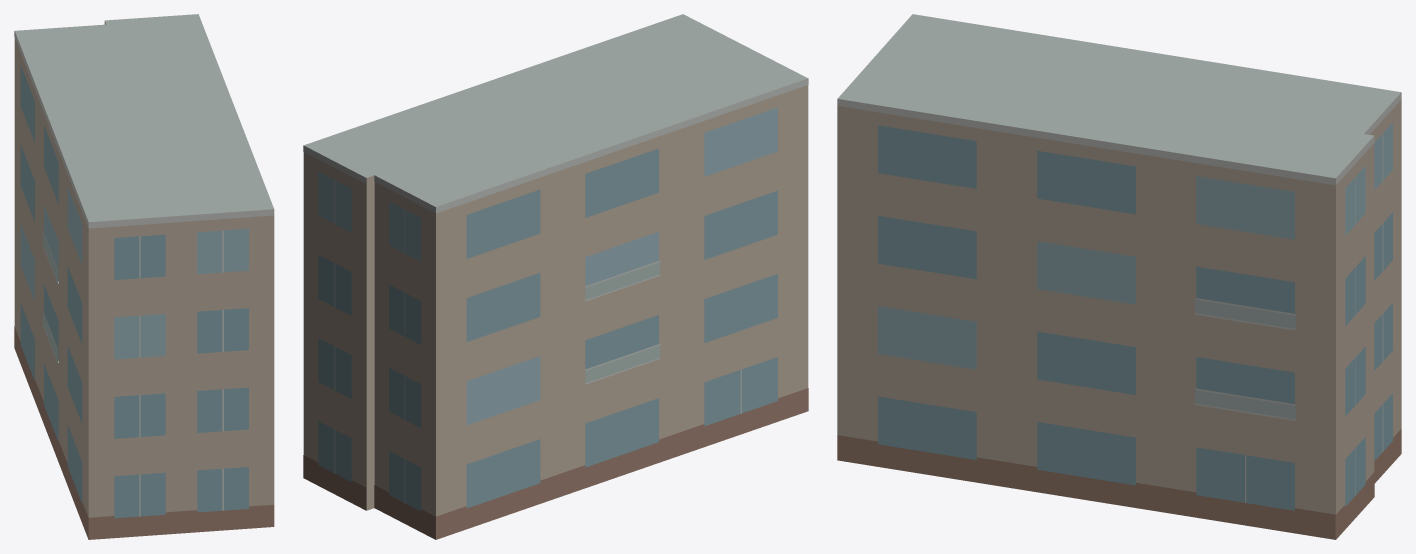
The model's file is survey-upis-32528421.glb.
3 views of the same model, side by side, from view 1: azimuth 30°, elevation 25°; view 2: azimuth 150°, elevation 25°; view 3: azimuth 270°, elevation 25° (orthographic). The views are drawn at different scales.
Visible parts, largest first — view 1: survey-upis-32528421.tmp; view 2: survey-upis-32528421.tmp; view 3: survey-upis-32528421.tmp.
Boxes of the visible parts, x1,y1,x2,y2 form: survey-upis-32528421.tmp: (14,14,274,539); survey-upis-32528421.tmp: (303,14,808,539); survey-upis-32528421.tmp: (837,14,1401,539).
Size of the model in its own units: 12.2 by 12.5 by 17.69.
